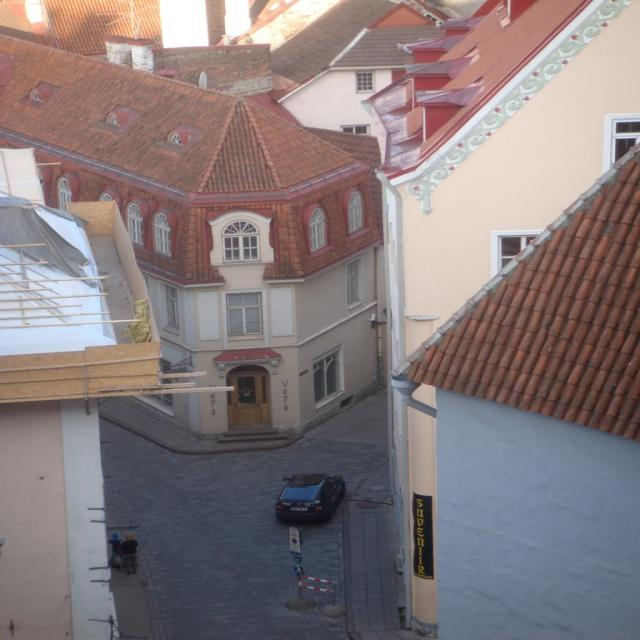car: (263, 474, 349, 530)
